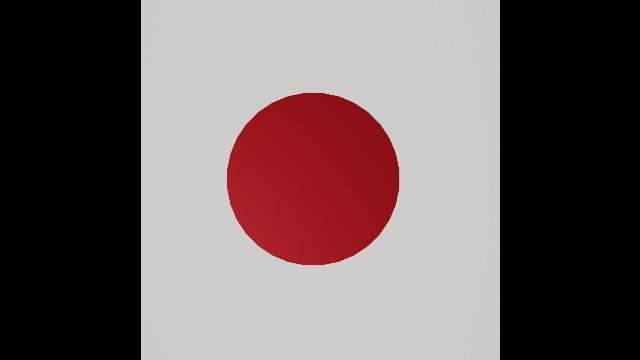Cylinder: (225, 90, 405, 276)
